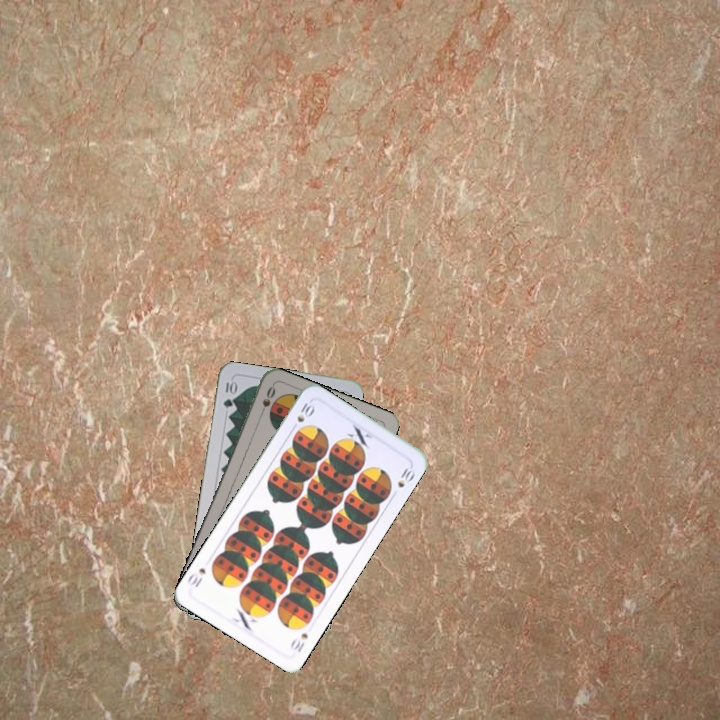G10: (219, 376, 238, 411)
S10: (293, 397, 317, 425), (286, 629, 310, 655)
SO: (255, 382, 278, 421)
